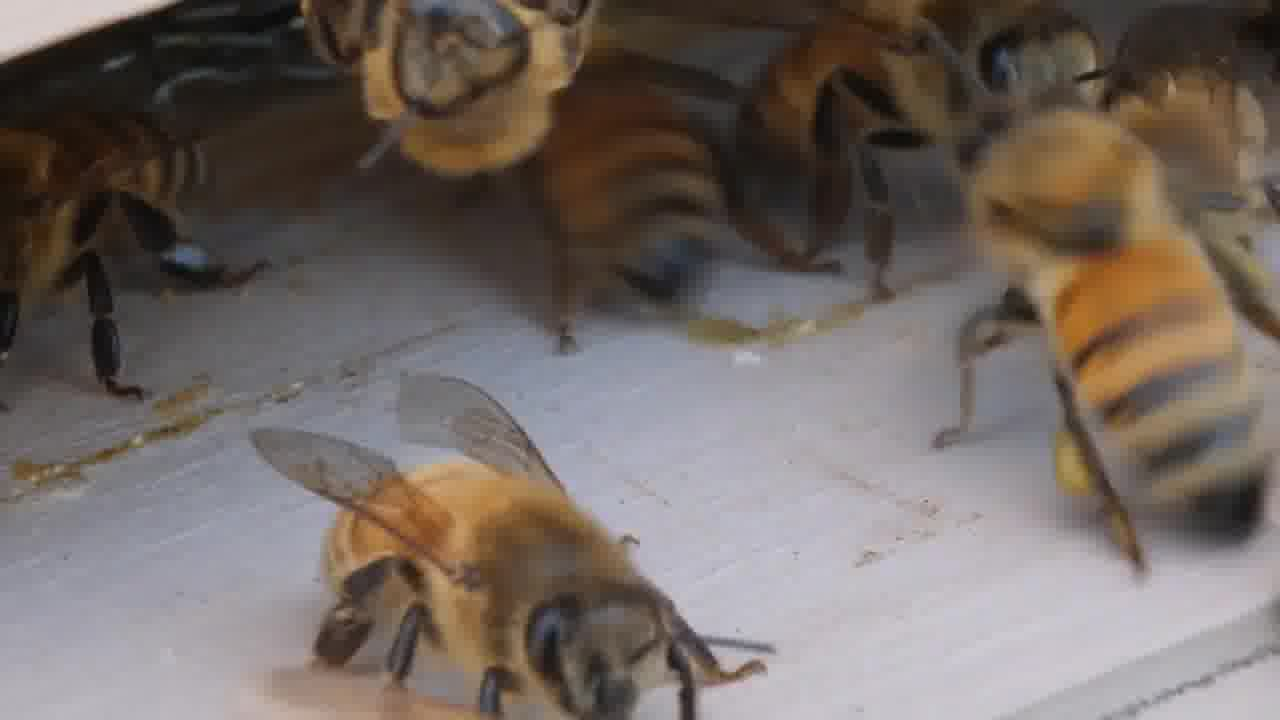pollen: (929, 85, 1279, 572)
